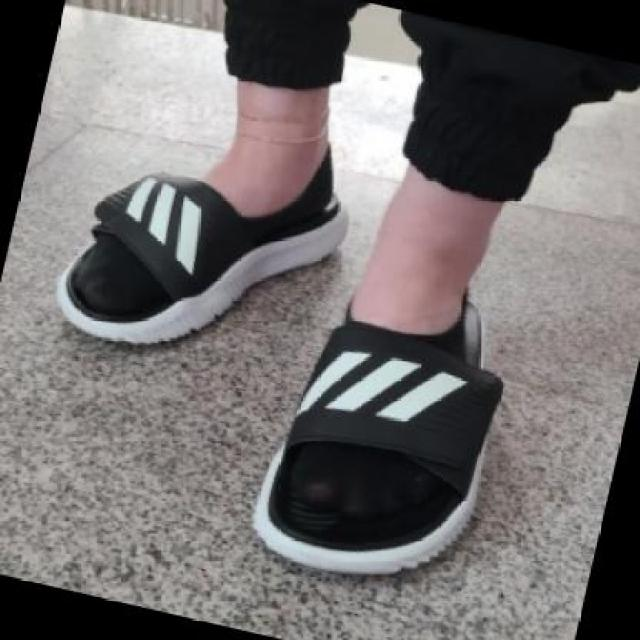Sandals: (246, 255, 509, 581), (46, 77, 347, 354)
